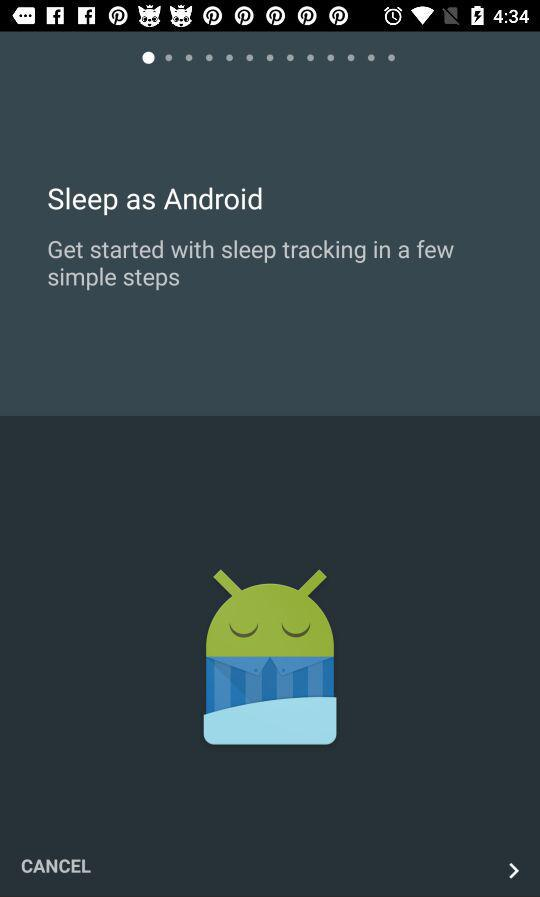Icon: (508, 862, 520, 880)
Image: (204, 568, 337, 745)
PageIndicator: (141, 51, 397, 66)
Text: (48, 241, 455, 292), (48, 187, 263, 216), (22, 858, 93, 874)
UpperTaskBar: (1, 1, 540, 33)
